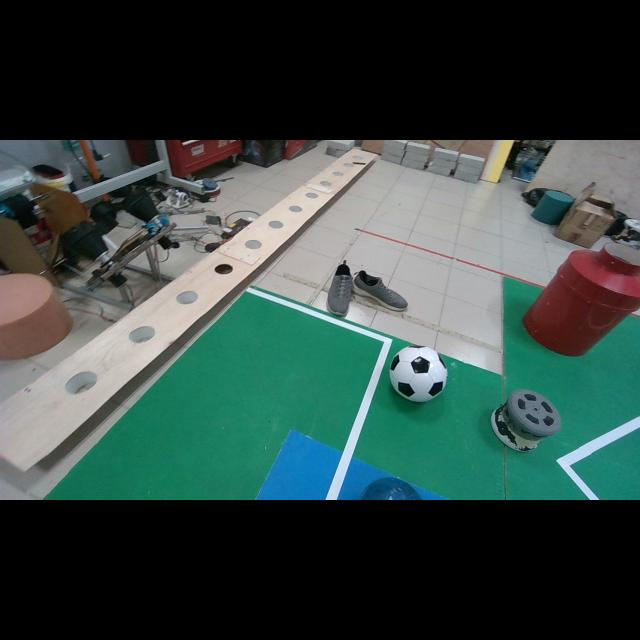B: (360, 478, 421, 500)
